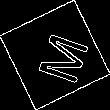M_W: (23, 25, 87, 85)
